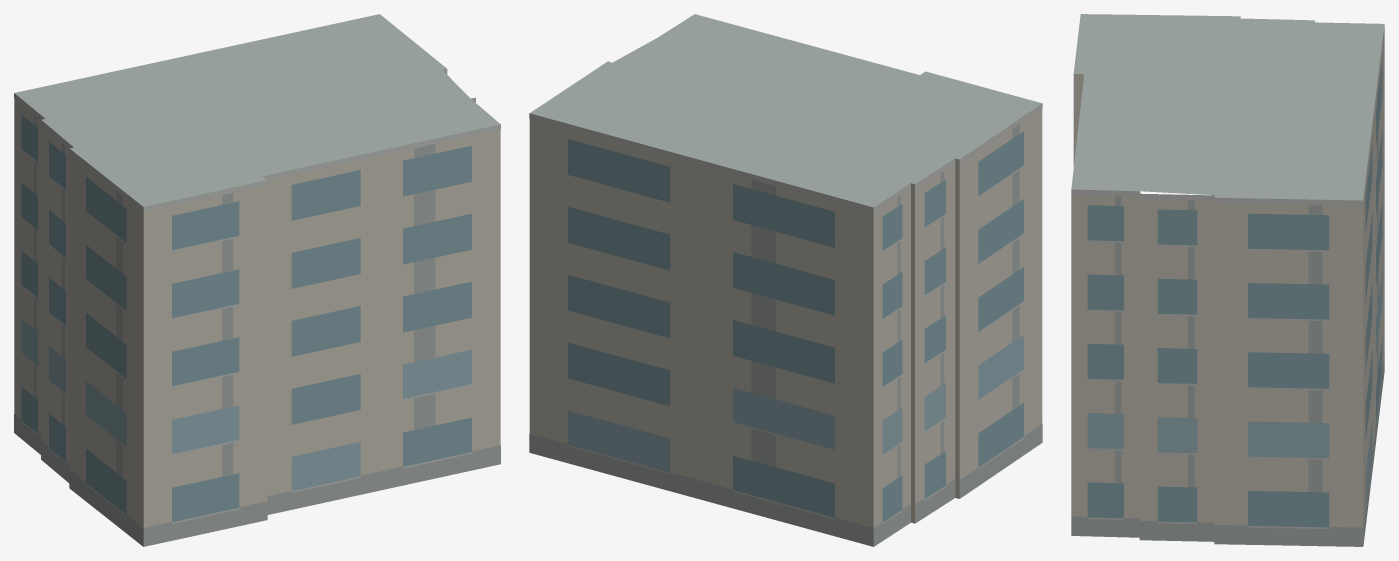
File: survey-upis-32499561.glb
3 views of the same model, side by side, from view 1: azimuth 30°, elevation 25°; view 2: azimuth 150°, elevation 25°; view 3: azimuth 270°, elevation 25° (orthographic). The views are drawn at different scales.
Visible parts, largest first — view 1: survey-upis-32499561.tmp; view 2: survey-upis-32499561.tmp; view 3: survey-upis-32499561.tmp.
Part boxes in pixels (x1=…): survey-upis-32499561.tmp: x1=14, y1=14, x2=500, y2=546; survey-upis-32499561.tmp: x1=529, y1=14, x2=1042, y2=546; survey-upis-32499561.tmp: x1=1071, y1=14, x2=1384, y2=546.
Bounding box in the file's own units: 17.61 × 15.25 × 12.51.
